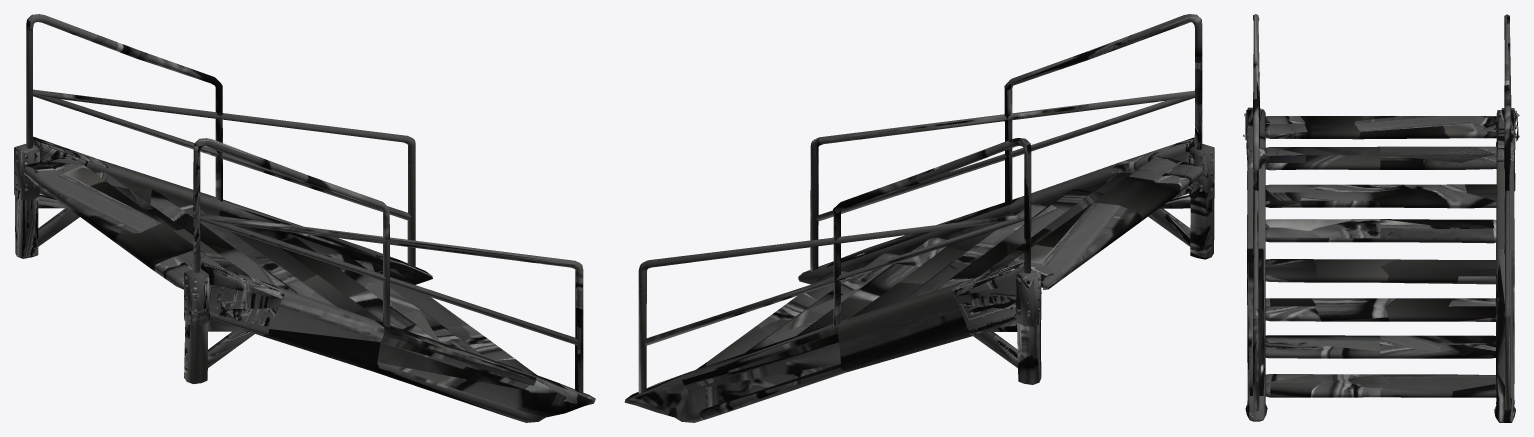
Rendered from tripo_convert_fb046501-0d1e-4ffc-9b89-6f1ee2e16fb6.fbx.
The picture shows the model from 3 angles, left to right: view 1: azimuth 30°, elevation 25°; view 2: azimuth 150°, elevation 25°; view 3: azimuth 270°, elevation 25°; orthographic projection. The views are drawn at different scales.
Visible parts, largest first — view 1: tripo_node_fb046501; view 2: tripo_node_fb046501; view 3: tripo_node_fb046501.
Boxes of the visible parts, x1,y1,x2,y2 form: tripo_node_fb046501: (14,14,595,422); tripo_node_fb046501: (624,14,1214,422); tripo_node_fb046501: (1243,14,1519,422).
Size of the model in its own units: 0.998 by 0.8379 by 0.7793.
